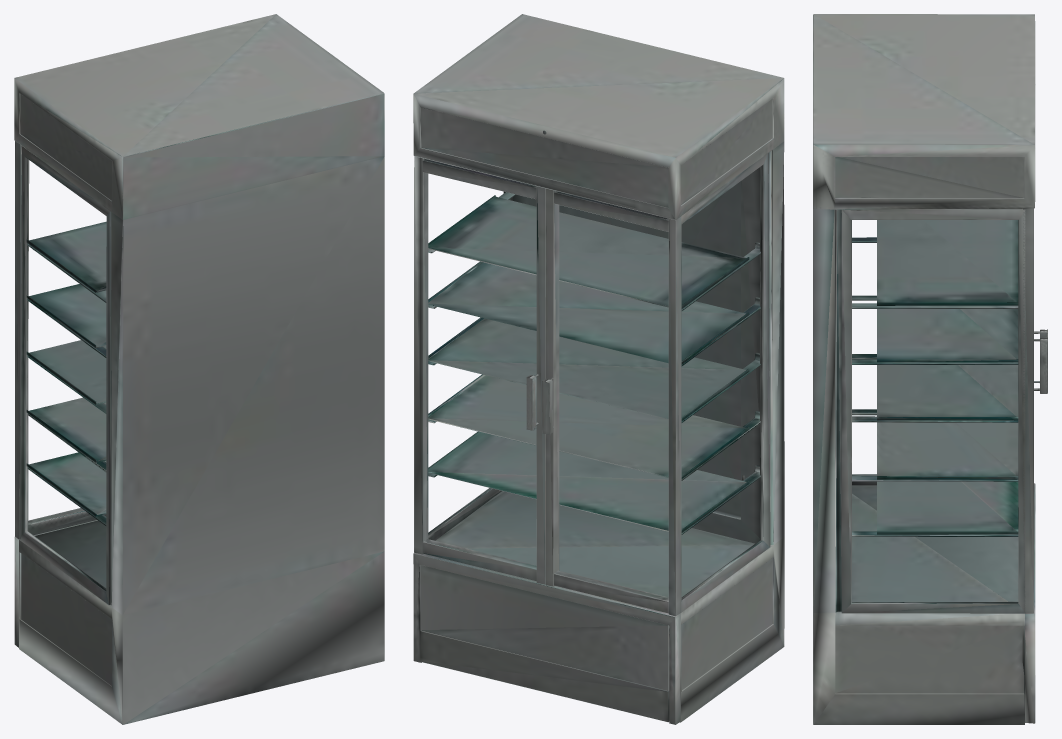
Rendered from mall-glass-display-cabinet.glb.
3 renders of one model, left to right at view 1: azimuth 30°, elevation 25°; view 2: azimuth 150°, elevation 25°; view 3: azimuth 270°, elevation 25°, orthographic. The views are drawn at different scales.
Parts seen in each view (by area): view 1: glass-display-cabinet; view 2: glass-display-cabinet; view 3: glass-display-cabinet.
Boxes of the visible parts, left/top/right/bottom form: glass-display-cabinet: left=14, top=14, right=384, bottom=724; glass-display-cabinet: left=413, top=14, right=784, bottom=724; glass-display-cabinet: left=813, top=14, right=1047, bottom=724.
Bounding box in the file's own units: 0.9178 × 1.9 × 0.6964.
1 material, 1 textured.
